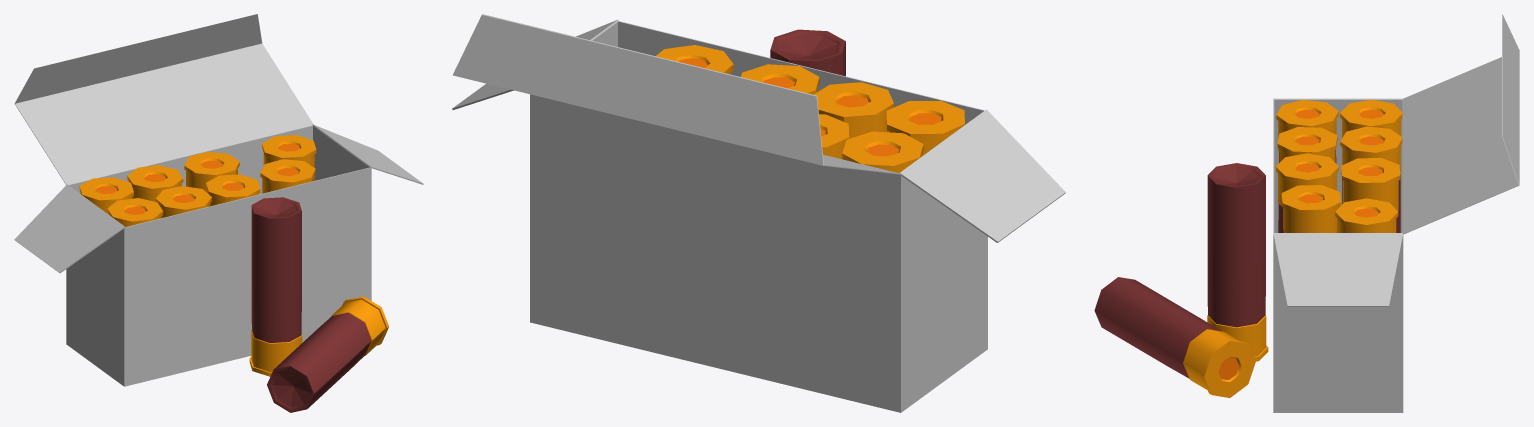
Rendered from Shotgun_Ammo.fbx.
3 views of the same model, side by side, from view 1: azimuth 30°, elevation 25°; view 2: azimuth 150°, elevation 25°; view 3: azimuth 270°, elevation 25° (orthographic). The views are drawn at different scales.
Visible parts, largest first — view 1: Cube.002; view 2: Cube.002; view 3: Cube.002.
Boxes of the visible parts, x1,y1,x2,y2 form: Cube.002: (14, 14, 423, 412); Cube.002: (452, 14, 1065, 412); Cube.002: (1094, 14, 1519, 412).
Bounding box in the file's own units: 1.43 × 0.9005 × 1.28.
